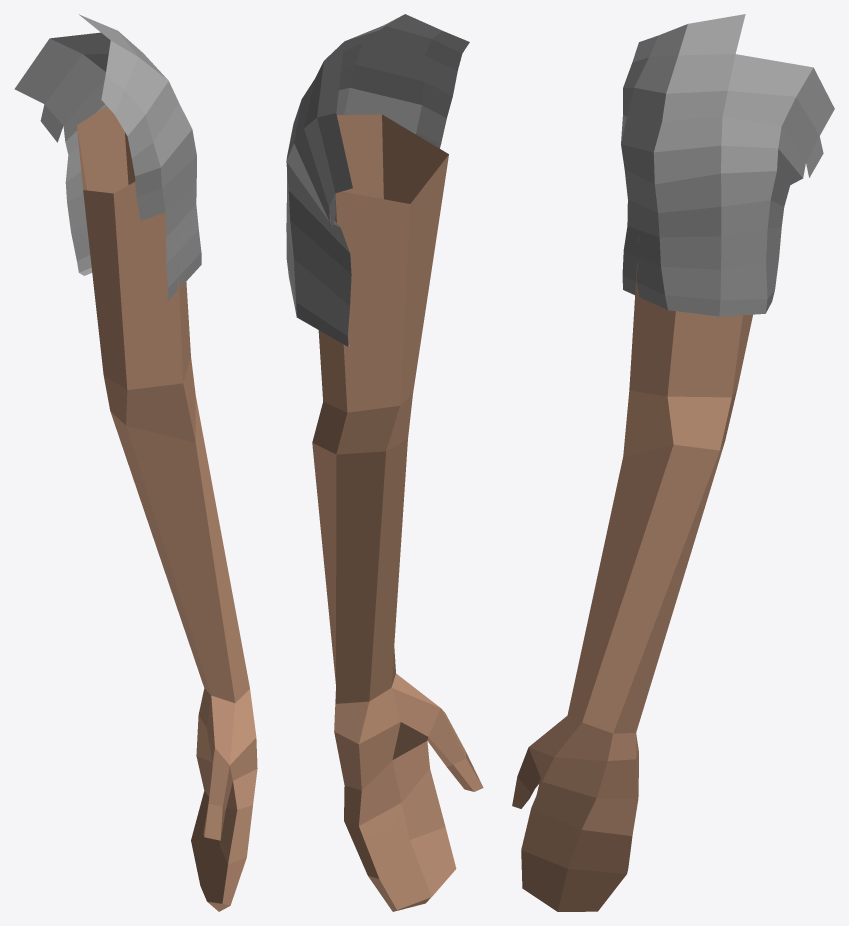
The model's file is arm_izquierdo.obj.
3 views of the same model, side by side, from view 1: azimuth 30°, elevation 25°; view 2: azimuth 150°, elevation 25°; view 3: azimuth 270°, elevation 25° (orthographic). The views are drawn at different scales.
Parts seen in each view (by area): view 1: Worker.003; view 2: Worker.003; view 3: Worker.003.
Part boxes in pixels (x1,y1,x2,y2): Worker.003: [14, 14, 257, 911]; Worker.003: [286, 14, 483, 911]; Worker.003: [512, 14, 834, 911].
Bounding box in the file's own units: 0.1287 × 0.7993 × 0.268.
